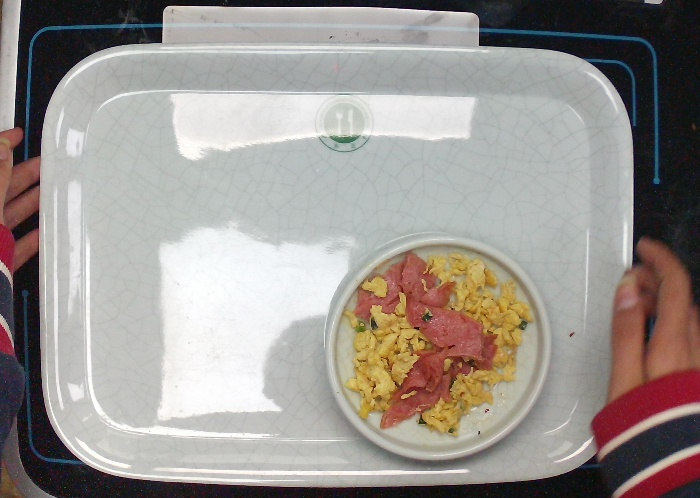JYsf-Xiao_Yuan_Pan: (318, 229, 562, 468)
